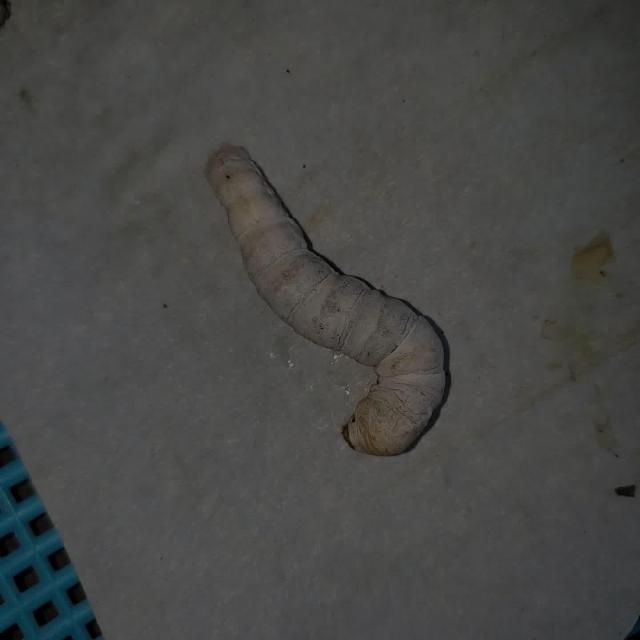Grasserie: (184, 122, 466, 491)
